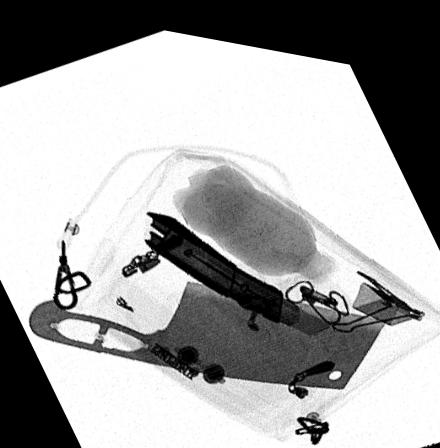Knife: (28, 273, 387, 377), (143, 204, 335, 325)
